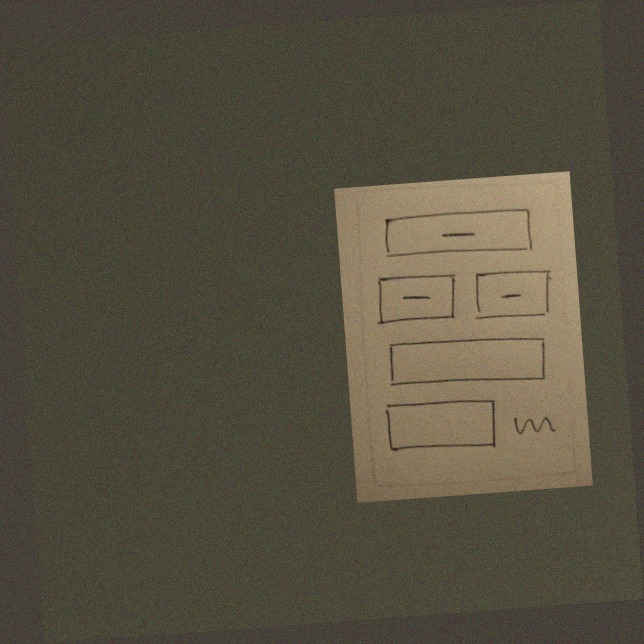button: (378, 199, 538, 266), (469, 261, 557, 326), (371, 266, 463, 328)
text: (509, 409, 567, 445)
text_input: (382, 327, 554, 398), (380, 392, 506, 460)
